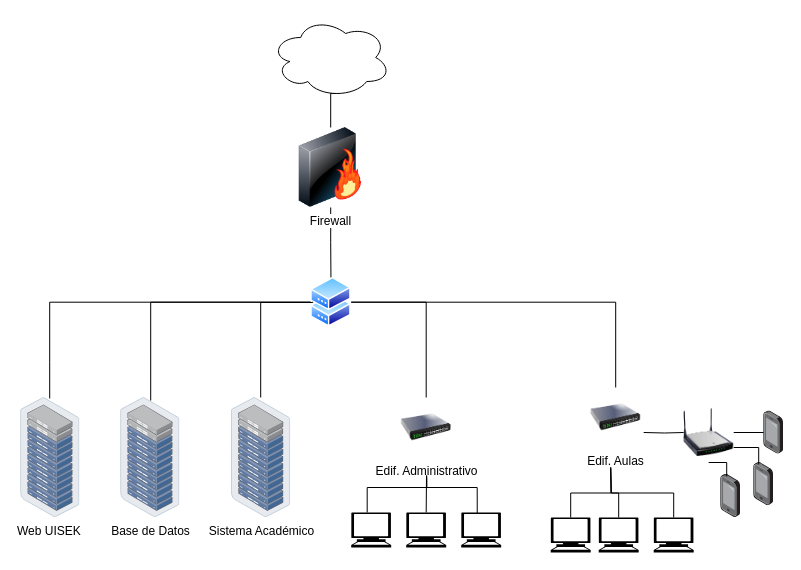
The diagram is 801 pixels wide and 570 high, and some of its shapes have lost their labels. The shapes that lost their labels are listed below. From the top down, each one's centre as x and y in pixels, then its label:
At point (330, 57): "Internet".
At point (330, 301): "Switch Core".
